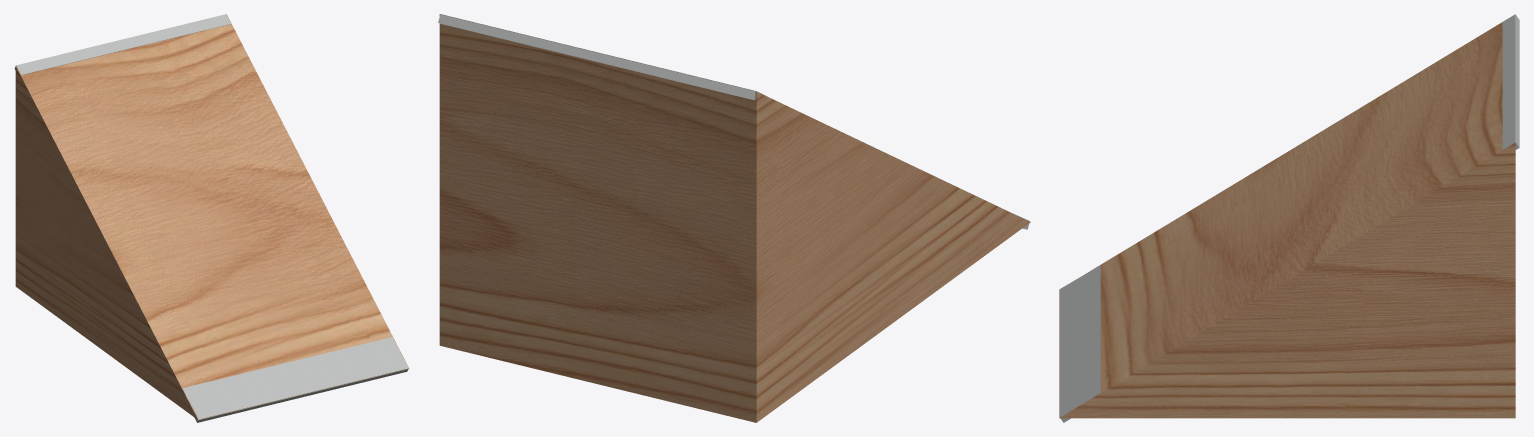
Rendered from StraightBigRamp.fbx.
3 renders of one model, left to right at view 1: azimuth 30°, elevation 25°; view 2: azimuth 150°, elevation 25°; view 3: azimuth 270°, elevation 25°, orthographic. The views are drawn at different scales.
Visible parts, largest first — view 1: Cube, Cube.001, Cube.002; view 2: Cube, Cube.002; view 3: Cube, Cube.001, Cube.002.
Boxes of the visible parts, bbox=[...] form: Cube: bbox=[15, 14, 409, 420]; Cube.001: bbox=[182, 337, 408, 422]; Cube.002: bbox=[14, 14, 230, 75]; Cube: bbox=[439, 14, 1030, 422]; Cube.002: bbox=[438, 14, 762, 100]; Cube: bbox=[1059, 22, 1515, 418]; Cube.001: bbox=[1059, 265, 1100, 422]; Cube.002: bbox=[1502, 14, 1519, 149].
Bounding box in the file's own units: 200 × 204 × 303.
3 materials, 3 textured.
